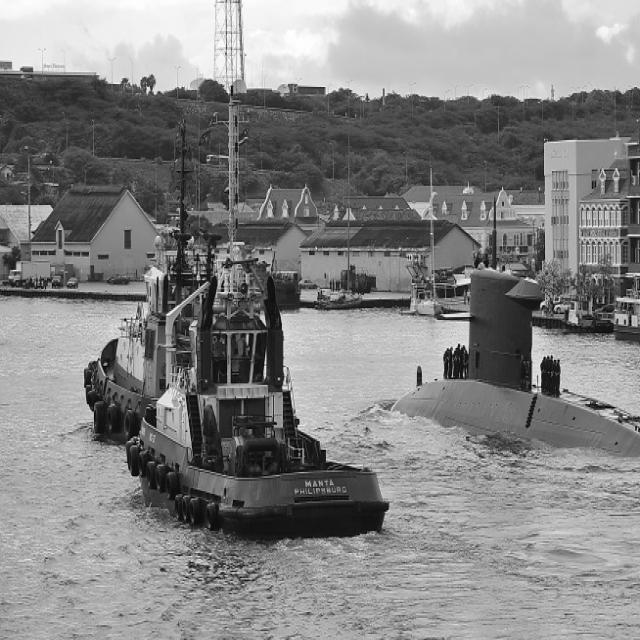submarine: (392, 240, 640, 492)
